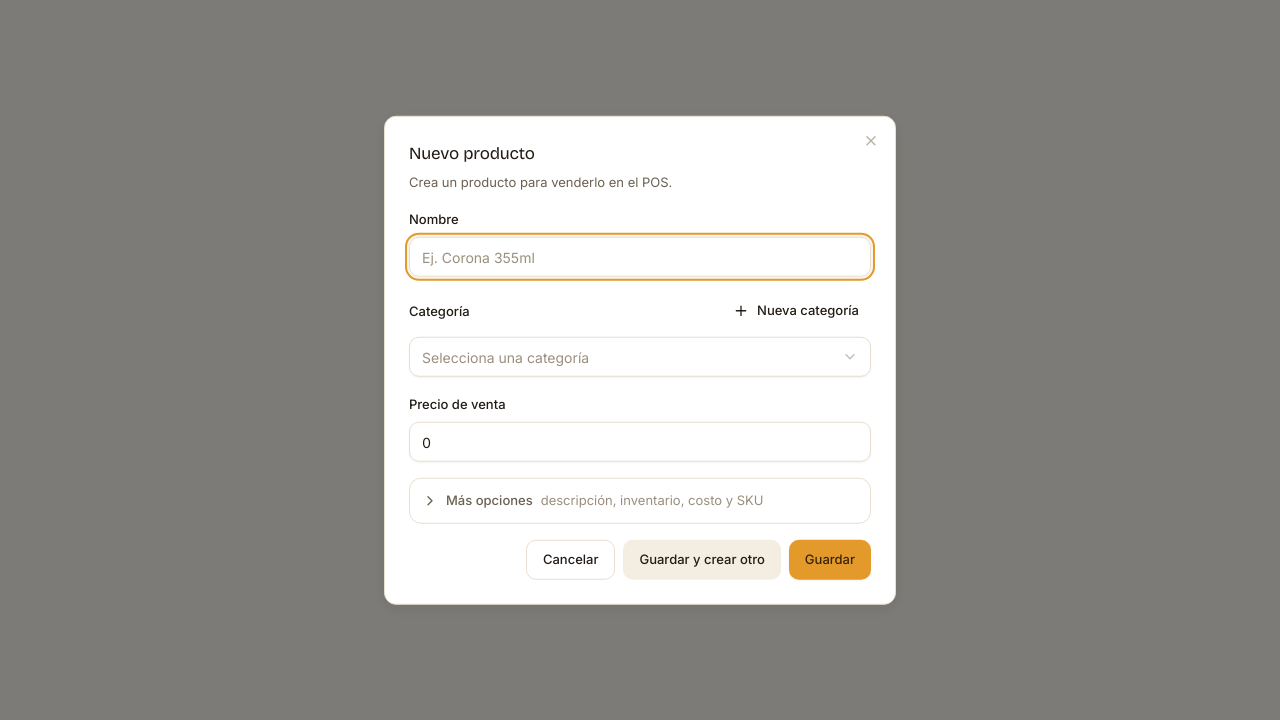
Test: ProductoFormDialog · camino corto › 'Más opciones' despliega lo avanzado
Click the button "Más opciones descripción, inventario, costo y SKU": (640, 501) [410, 479, 870, 522]
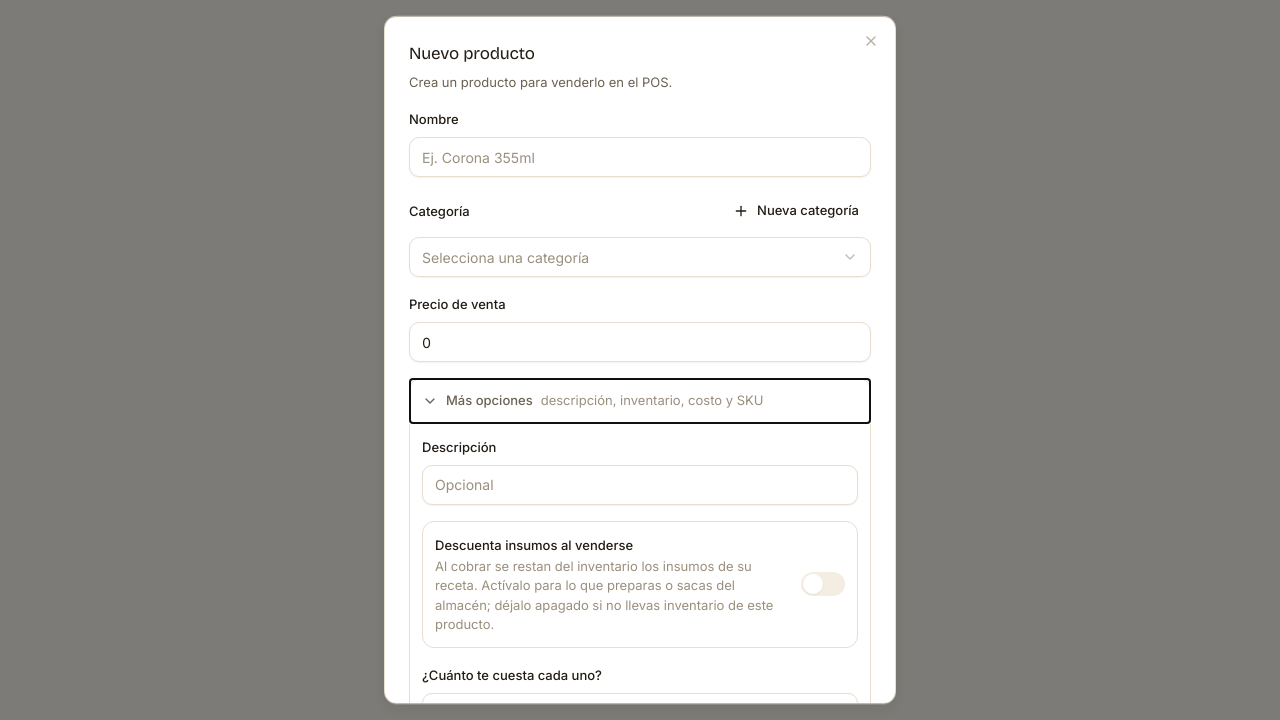
Check: the switch named "descuenta insumos al venderse" is shown, box [801, 572, 845, 596]
